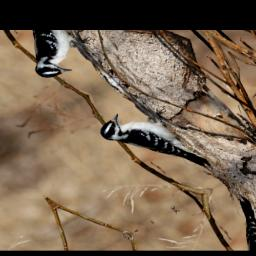Woodpecker: (92, 95, 221, 195)
